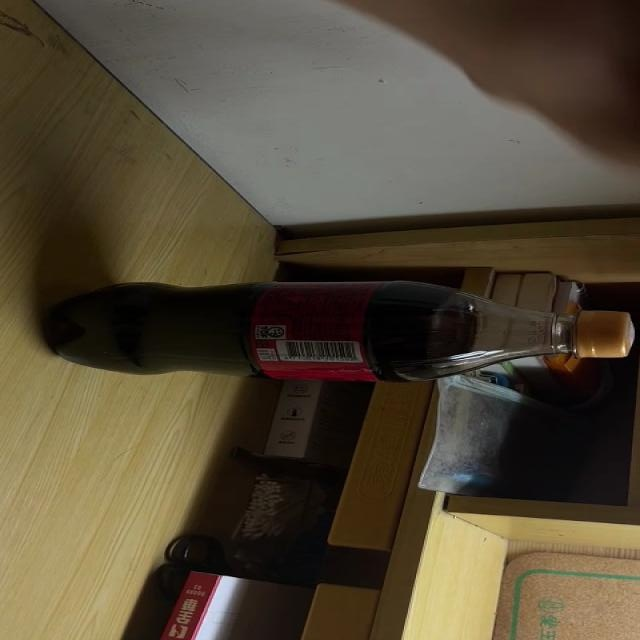Coca-Cola: (45, 281, 636, 379)
